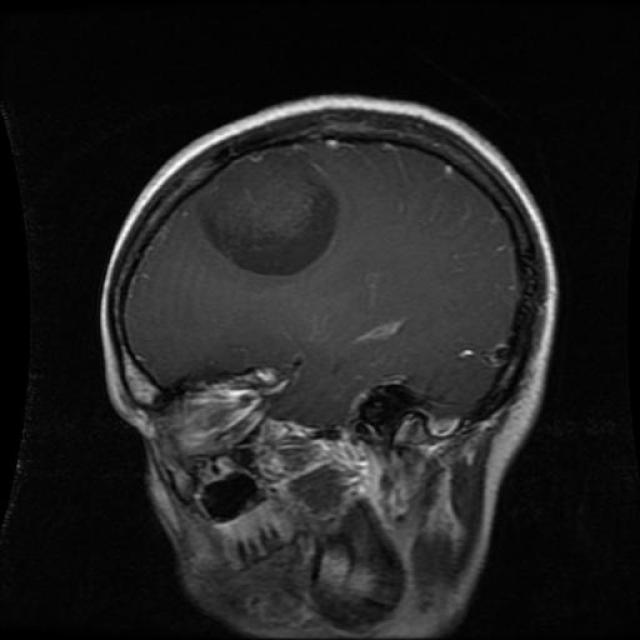brain_tumor: (200, 149, 339, 275)
